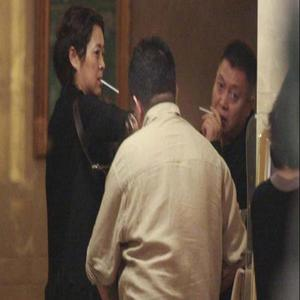cigarette: (98, 78, 121, 94), (196, 106, 219, 118)
